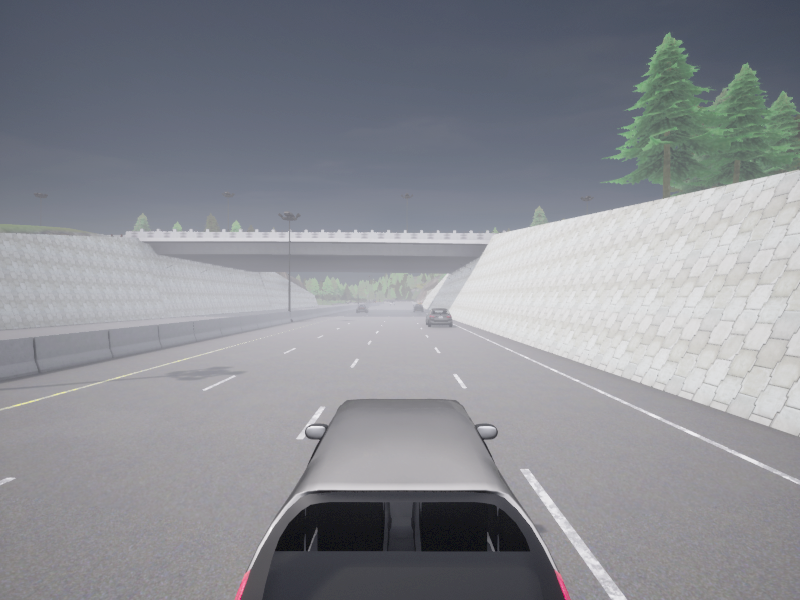vehicle: (235, 399, 570, 599), (426, 308, 452, 326), (356, 305, 368, 312), (413, 304, 423, 311), (390, 301, 394, 305)
